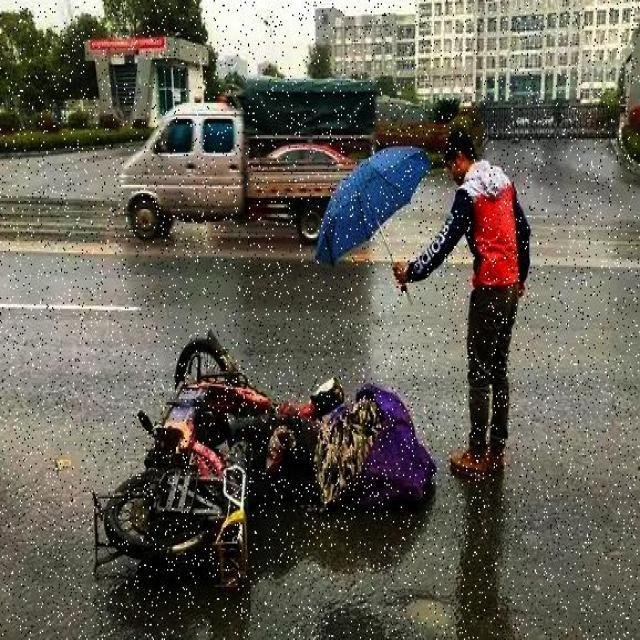fall: (235, 370, 423, 518)
